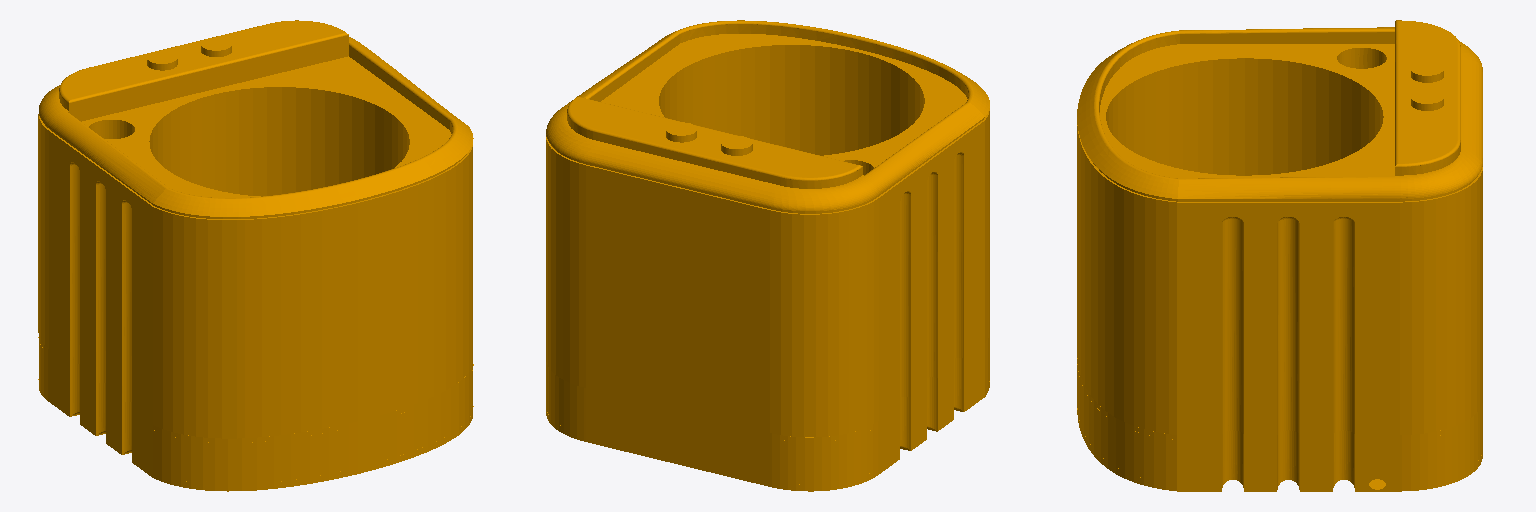
The robot description file, URDF, robot "clothes_white":
<?xml version="1.0"?>
<robot name="clothes_white">

<link name="base_link">

  <collision>
    <origin xyz="0 0 0" rpy="0 0 0"/>
    <geometry>
      <mesh filename="package://ur_description/meshes/objects/visual/washer_low.dae"/>
    </geometry>
  </collision>

  <visual>
    <origin xyz="0 0 0" rpy="0 0 0"/>
    <geometry>
      <mesh filename="package://ur_description/meshes/objects/visual/washer_low.dae"/>
    </geometry>
  </visual>

  <inertial>
   <origin xyz="0 0 0" rpy="0 0 0"/>
   <mass value="100" />
   <inertia
      ixx="0.00000379215" ixy="0.0"  ixz="0.0"
      iyy="0.00000379215" iyz="0.0"  izz="0.00000379215" />
  </inertial>

</link>

<gazebo reference="base_link">
  <turnGravityOff>true</turnGravityOff>
  <static>true</static>
  <!-- <mu1>100</mu1>
  <mu2>100</mu2>
  <kp>[number redacted]</kp>
  <kd>1</kd>
  <maxVel>0</maxVel>
  <minDepth>0.001</minDepth> -->
  <material>Gazebo/Blue</material>
</gazebo>

</robot>

--- Facts derived from the render (not from the file) ---
Views: 3 orthographic renders of the robot side by side, from view 1: azimuth 30°, elevation 25°; view 2: azimuth 150°, elevation 25°; view 3: azimuth 270°, elevation 25°.
Model clothes_white with 1 links and 0 joints (none), rooted at base_link, posed all joints at 0.
Links seen in each view (by area): view 1: base_link; view 2: base_link; view 3: base_link.
Boxes of the visible links, <box> form: base_link: <box>38,20,473,491</box>; base_link: <box>546,20,989,491</box>; base_link: <box>1077,20,1482,491</box>.
Size in the robot's own frame: 0.35 by 0.3653 by 0.322 metres.
Meshes: 1 distinct files referenced, 1 mesh visuals loaded (1 Collada DAE).